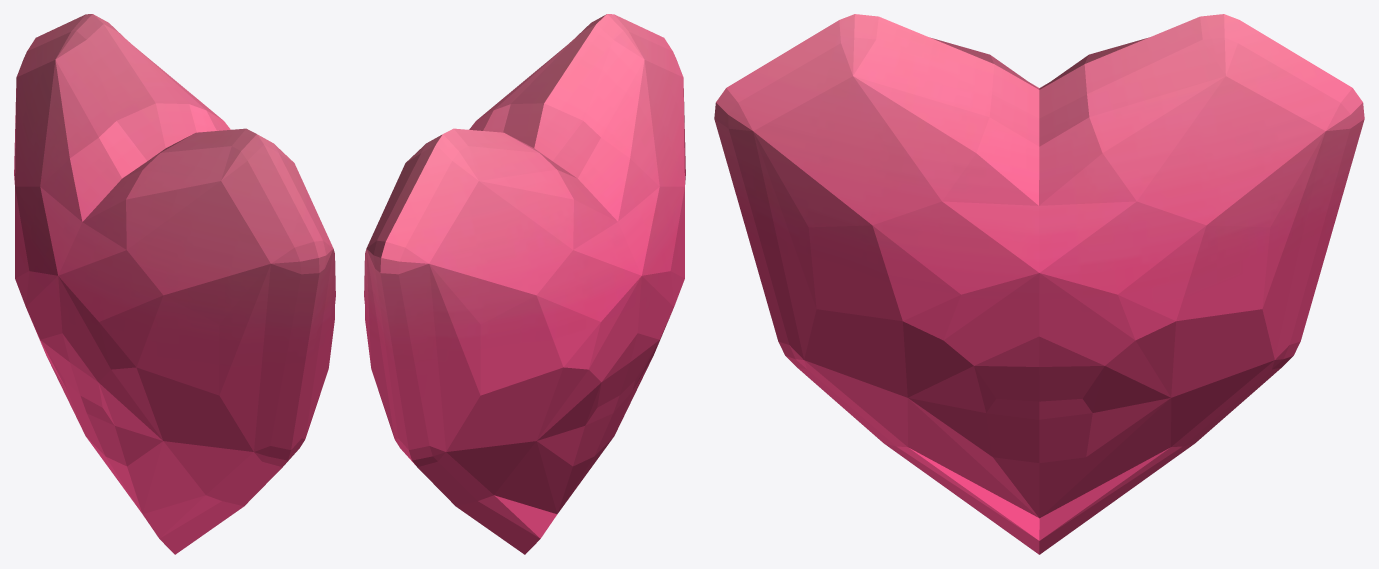
Rendered from SM_LifeCrystal_2fd9e8.glb.
3 renders of one model, left to right at view 1: azimuth 30°, elevation 25°; view 2: azimuth 150°, elevation 25°; view 3: azimuth 270°, elevation 25°, orthographic. The views are drawn at different scales.
Bounding box in the file's own units: 0.2847 × 0.5602 × 0.6104.
1 material, 1 textured.
